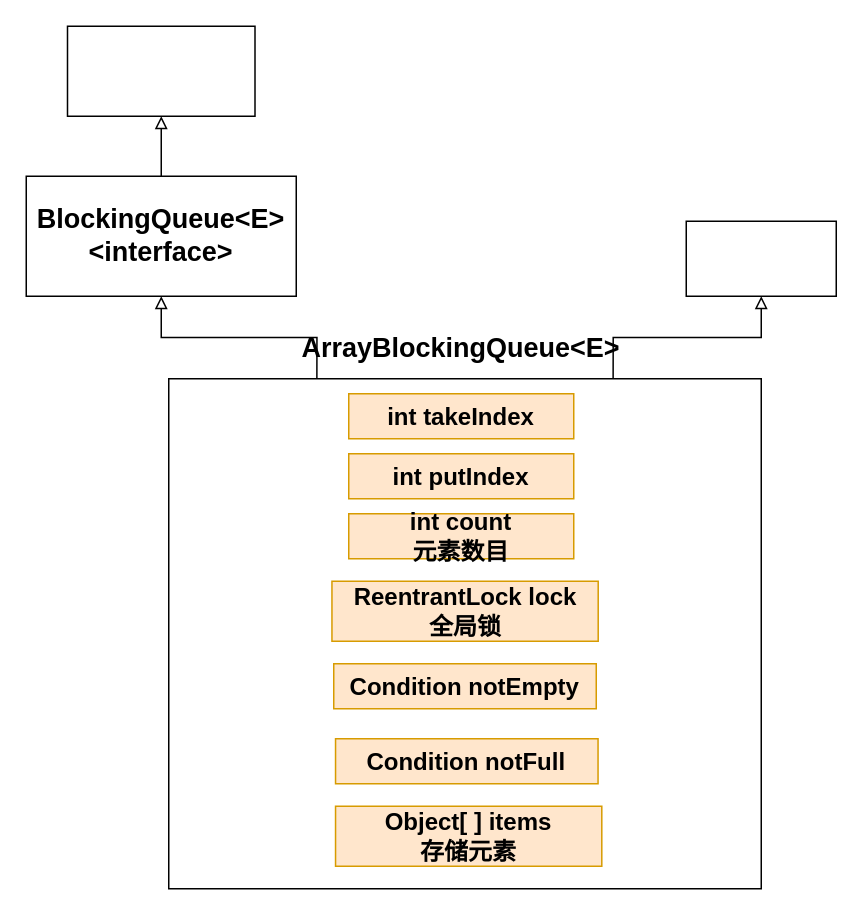
Image size: 863x915. Some labels were removed from this diagram. Here are the shapes that lost their labels. From the top down, the box of each, then its label:
(66, 25, 255, 116): Queue<E> <interface>
(685, 220, 836, 296): AQS
